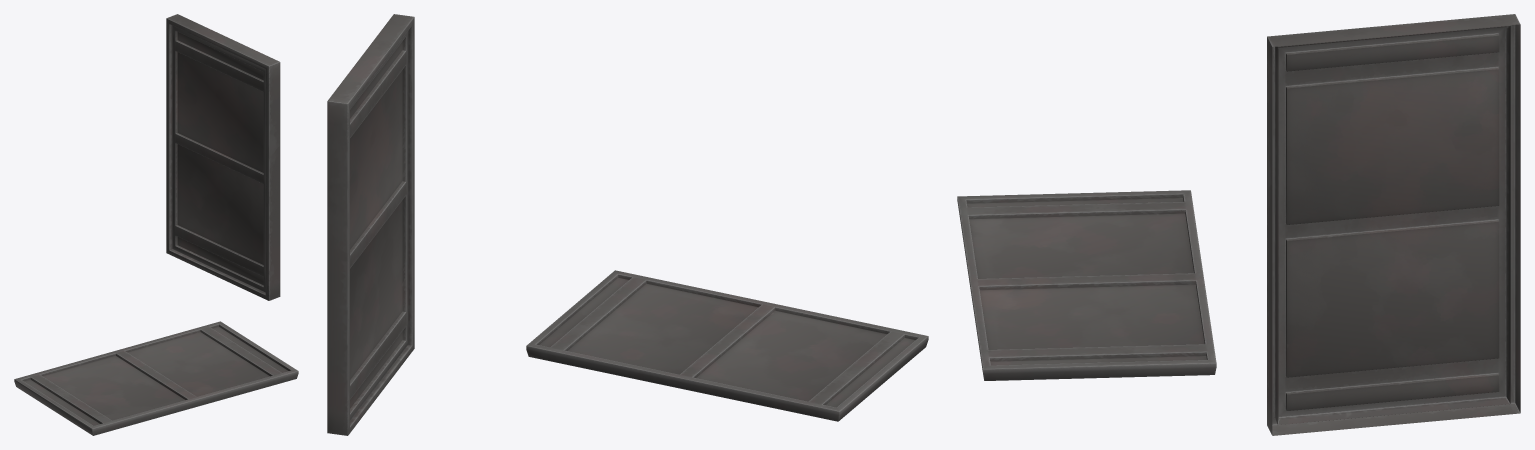
The model's file is doorsTextured.fbx.
3 renders of one model, left to right at view 1: azimuth 30°, elevation 25°; view 2: azimuth 150°, elevation 25°; view 3: azimuth 270°, elevation 25°, orthographic. The views are drawn at different scales.
Parts seen in each view (by area): view 1: doorWithFrame, door; view 2: door, doorWithFrame; view 3: doorWithFrame, door.
Boxes of the visible parts, bbox=[...] form: doorWithFrame: bbox=[166, 14, 280, 300]; door: bbox=[14, 321, 298, 435]; door: bbox=[526, 270, 928, 421]; doorWithFrame: bbox=[327, 14, 414, 435]; doorWithFrame: bbox=[1267, 14, 1520, 435]; door: bbox=[957, 190, 1216, 380].
Size of the model in its own units: 259 by 201 by 262.
1 material, 1 textured.
